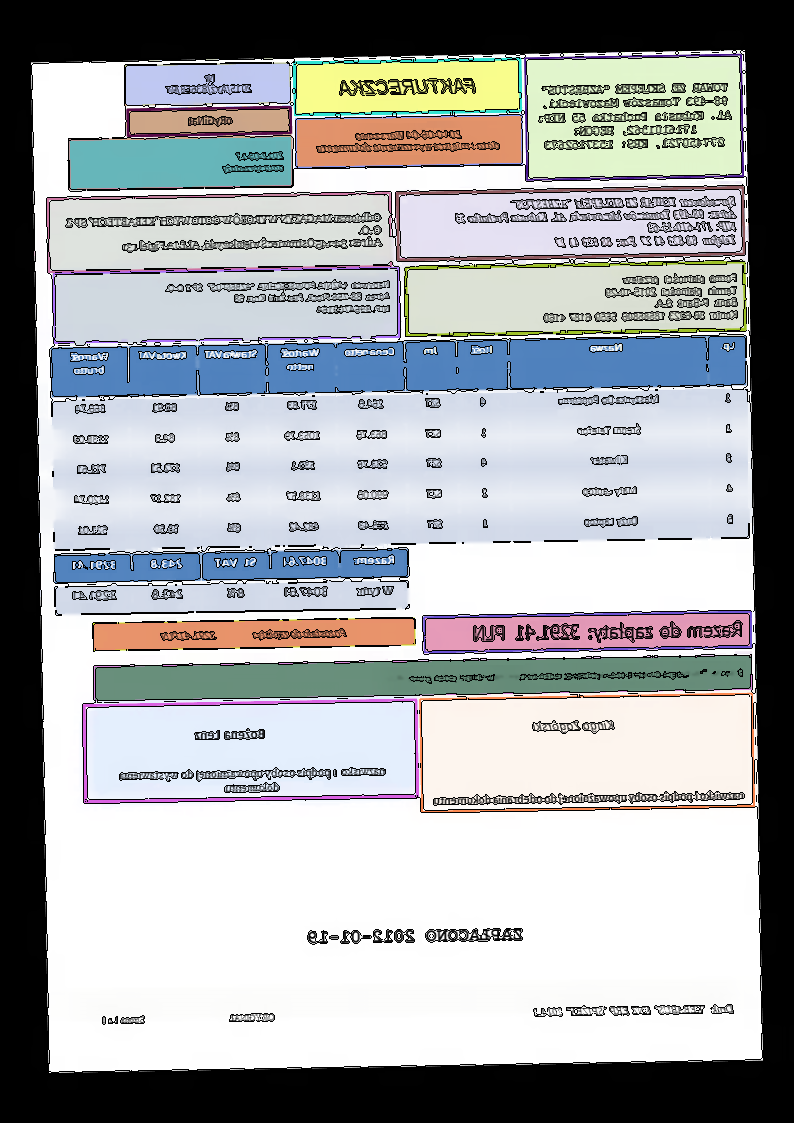Table: (49, 334, 750, 551), (54, 546, 410, 616)
TextBox: (454, 192, 738, 250), (65, 210, 384, 255), (537, 81, 735, 151), (541, 272, 739, 324), (163, 277, 394, 319), (118, 764, 387, 796), (383, 666, 745, 686), (472, 617, 744, 643), (434, 786, 747, 808), (314, 127, 502, 155), (306, 924, 524, 946), (531, 1001, 736, 1020), (159, 625, 349, 644), (337, 74, 478, 98), (101, 1011, 276, 1027), (163, 70, 254, 96), (531, 716, 617, 735), (221, 149, 286, 174), (192, 726, 267, 743), (186, 113, 234, 127)
